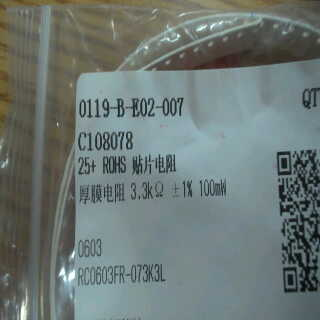3.3kO: (127, 179, 167, 205)
